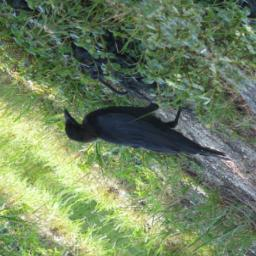Crow: (47, 60, 245, 212)
